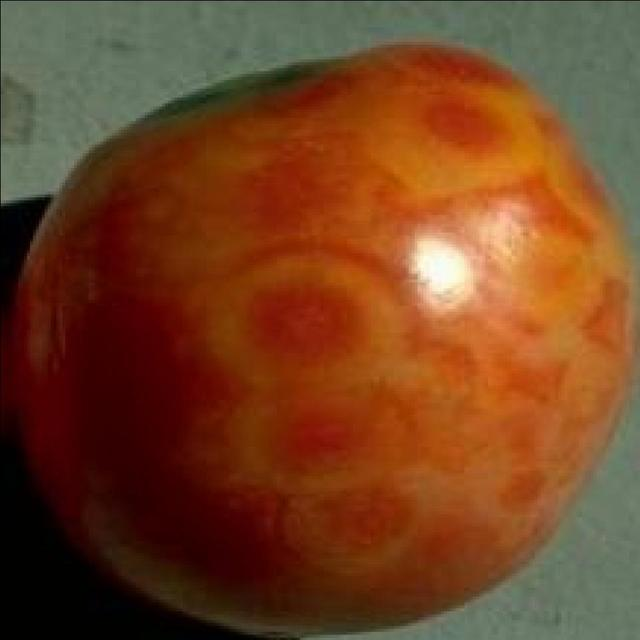Spotted wilt Virus Fruit: (10, 30, 424, 427)
